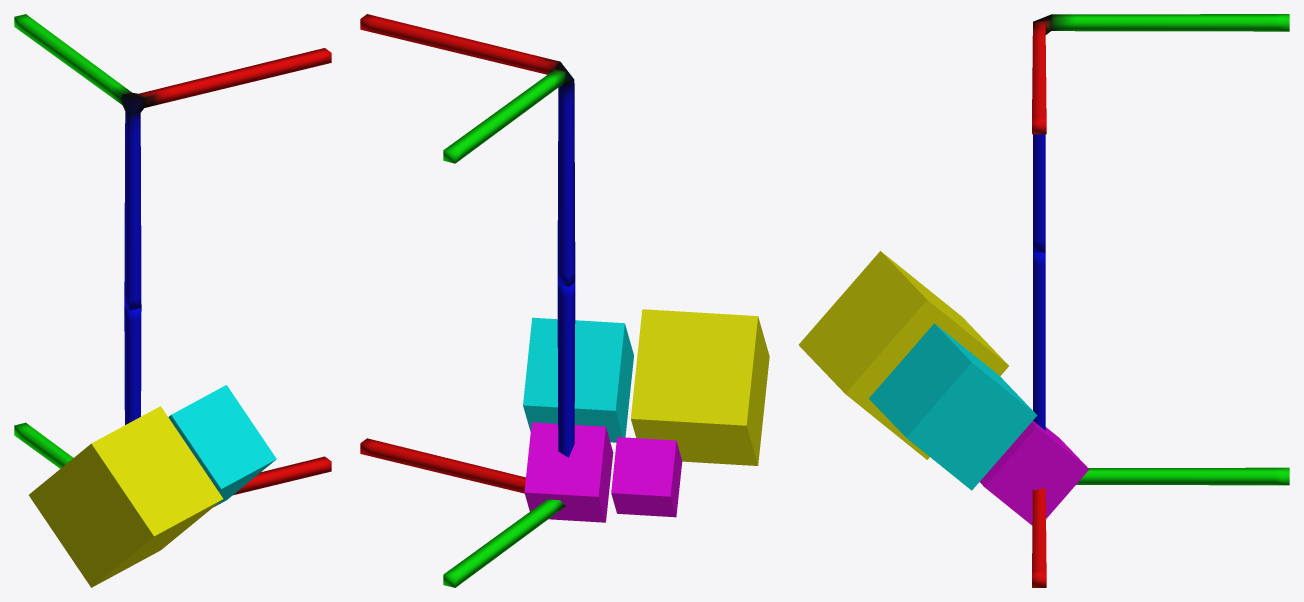
Rendered from hierarchy2.glb.
The picture shows the model from 3 angles, left to right: view 1: azimuth 30°, elevation 25°; view 2: azimuth 150°, elevation 25°; view 3: azimuth 270°, elevation 25°; orthographic projection. The views are drawn at different scales.
Visible parts, largest first — view 1: Cube.002, Plane.001, Cube.001, Plane; view 2: Cube.002, Plane.001, Cube.001, Plane, Cube, Cube.003; view 3: Cube.001, Cube.002, Plane.001, Plane, Cube.
Boxes of the visible parts, bbox=[...] form: Cube.002: bbox=[29, 406, 223, 587]; Plane.001: bbox=[14, 14, 331, 310]; Cube.001: bbox=[168, 385, 276, 507]; Plane: bbox=[14, 307, 331, 495]; Cube.002: bbox=[630, 309, 769, 465]; Plane.001: bbox=[360, 14, 575, 286]; Cube.001: bbox=[523, 317, 633, 442]; Plane: bbox=[360, 283, 575, 587]; Cube: bbox=[524, 422, 613, 522]; Cube.003: bbox=[611, 437, 682, 517]; Cube.001: bbox=[869, 323, 1037, 490]; Cube.002: bbox=[799, 251, 1008, 459]; Plane.001: bbox=[1032, 14, 1289, 252]; Plane: bbox=[1032, 252, 1289, 587]; Cube: bbox=[980, 421, 1089, 525].
Size of the model in its own units: 6.85 by 8.71 by 7.85.
